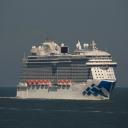cruises: (17, 38, 119, 104)
